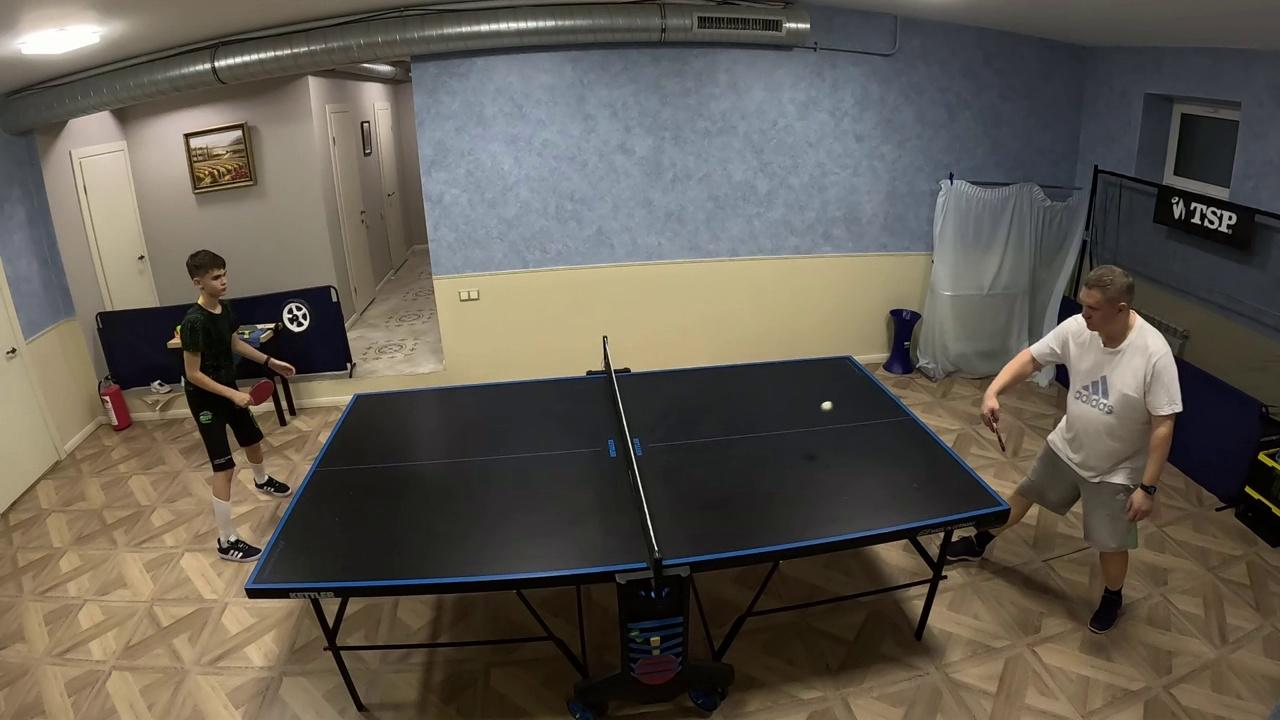Ball: (819, 399, 834, 412)
Net: (602, 336, 666, 588)
Player1: (167, 250, 280, 560)
Player2: (969, 265, 1181, 632)
Table: (246, 374, 647, 595), (617, 358, 1007, 571)
